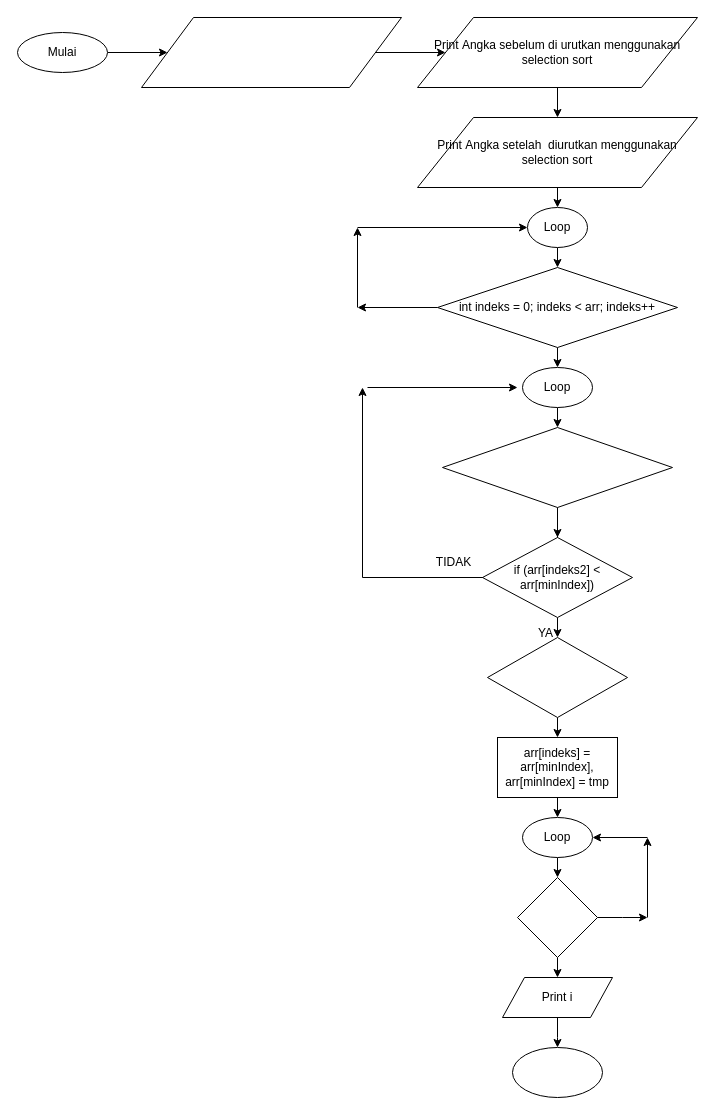
Some shapes in this 715 by 1115 pixel diagram are drawn without their labels. The shapes that lost their labels are listed below. From the top down, each one's box as (x1, y1, x2, y2) in pixels, then its label:
(140, 16, 402, 88): int[] angka = (82,12,41,38,19,26,9,48,20,55,8,32,3)
(442, 426, 672, 508): int indeks2 = indeks + 1; indeks2 < arr; indeks2++
(486, 636, 628, 718): if (minIndex != indeks)
(516, 876, 598, 958): int i : arr
(512, 1046, 602, 1098): Selesai
